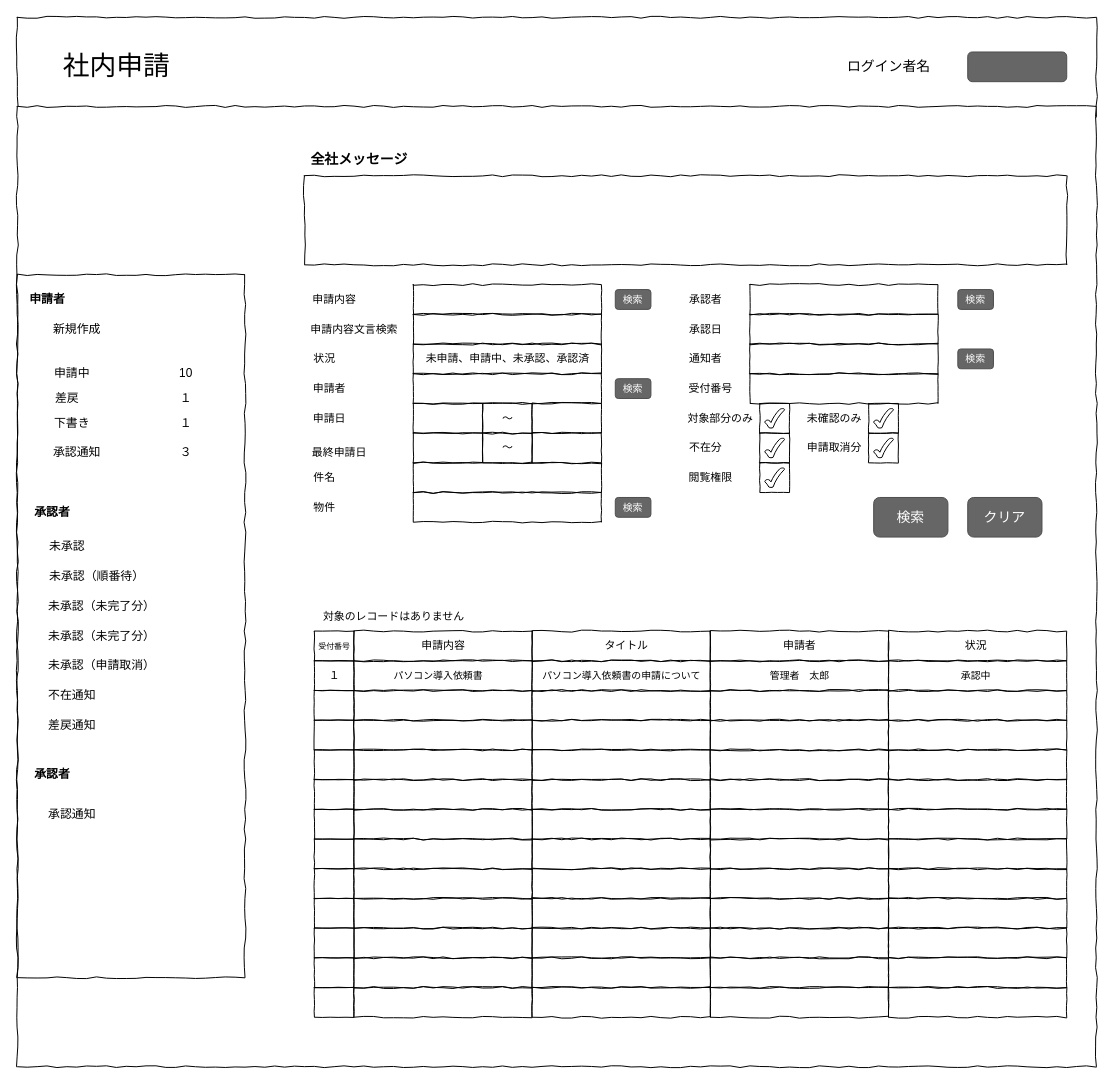
Image size: 1114x1084. Some labels were removed from this diagram. Each missing label, with the box of its shape:
※2022年4月1日12時から13時までメンテナンス作業のため、使用できません。: (303, 175, 1067, 265)
ログアウト: (967, 51, 1067, 82)
